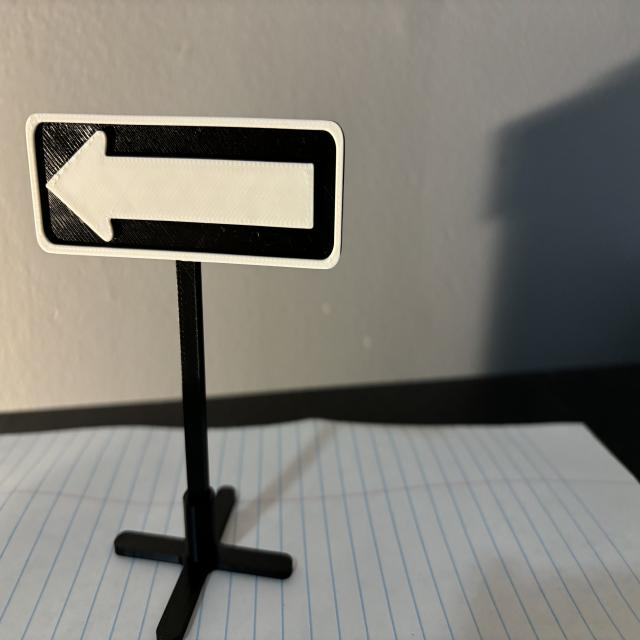sign_oneway_left: (27, 114, 344, 271)
